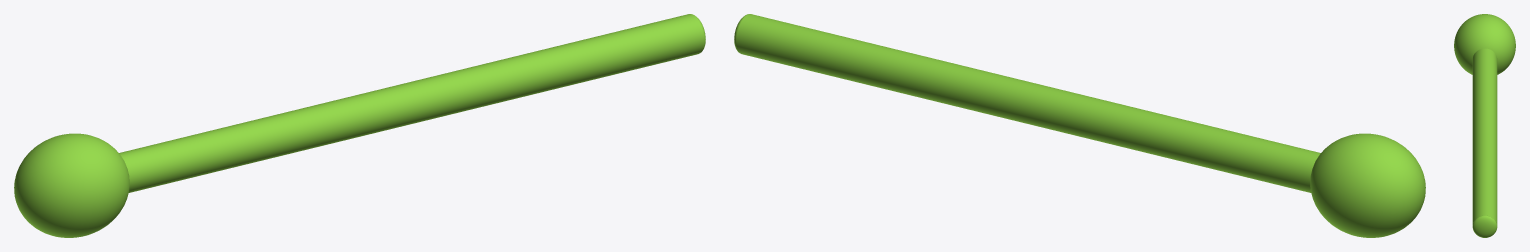
The model's file is mallet.glb.
3 views of the same model, side by side, from view 1: azimuth 30°, elevation 25°; view 2: azimuth 150°, elevation 25°; view 3: azimuth 270°, elevation 25° (orthographic). The views are drawn at different scales.
Visible parts, largest first — view 1: Mallet; view 2: Mallet; view 3: Mallet.
Boxes of the visible parts, x1=… form: Mallet: x1=14, y1=14, x2=705, y2=237; Mallet: x1=734, y1=14, x2=1425, y2=237; Mallet: x1=1454, y1=14, x2=1515, y2=237.
Size of the model in its own units: 0.2056 by 0.0272 by 0.0272.
